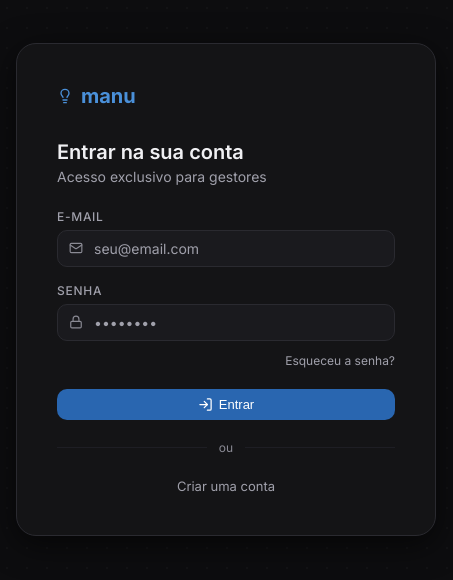
it: Login › mostra mensagem generica para erro desconhecido
Type "g@x.com" into the field with placeholder "seu@email.com" at (226, 248), box [57,230,395,266]
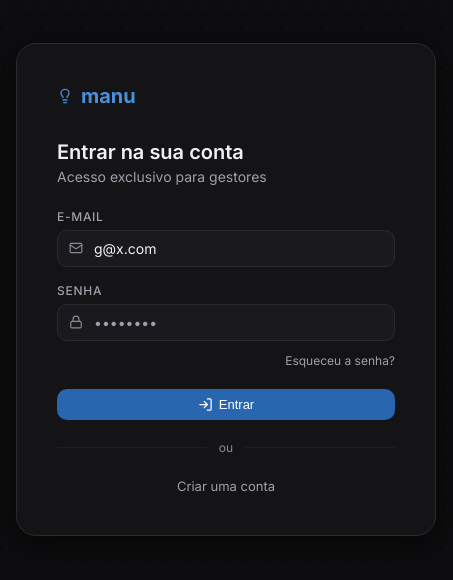
Type "secret" into the password field with placeholder "••••••••" at (226, 322), box [57,304,395,340]
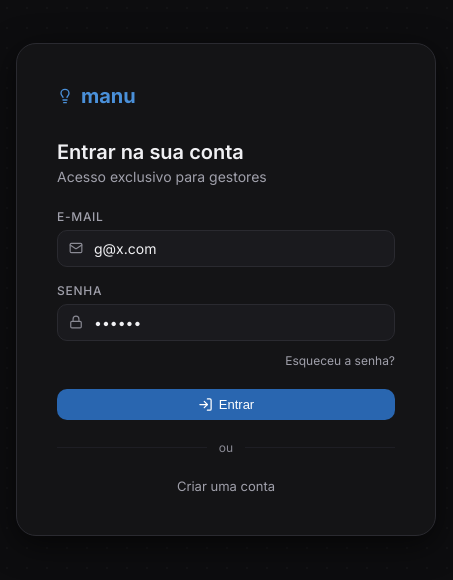
Click the button "Entrar" at (226, 404), box [57,388,395,420]
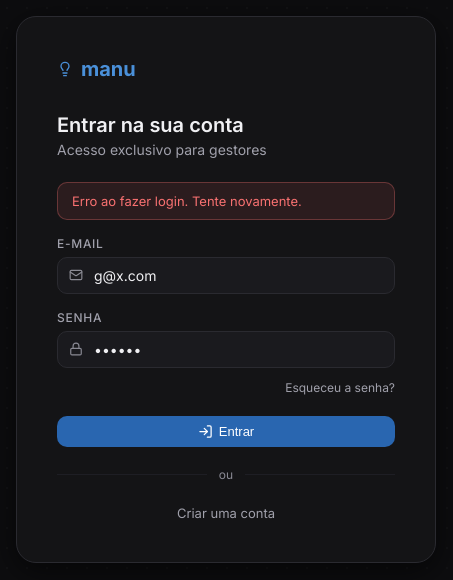
Now the text "Erro ao fazer login. Tente novamente." is shown, box [57,182,395,220]
